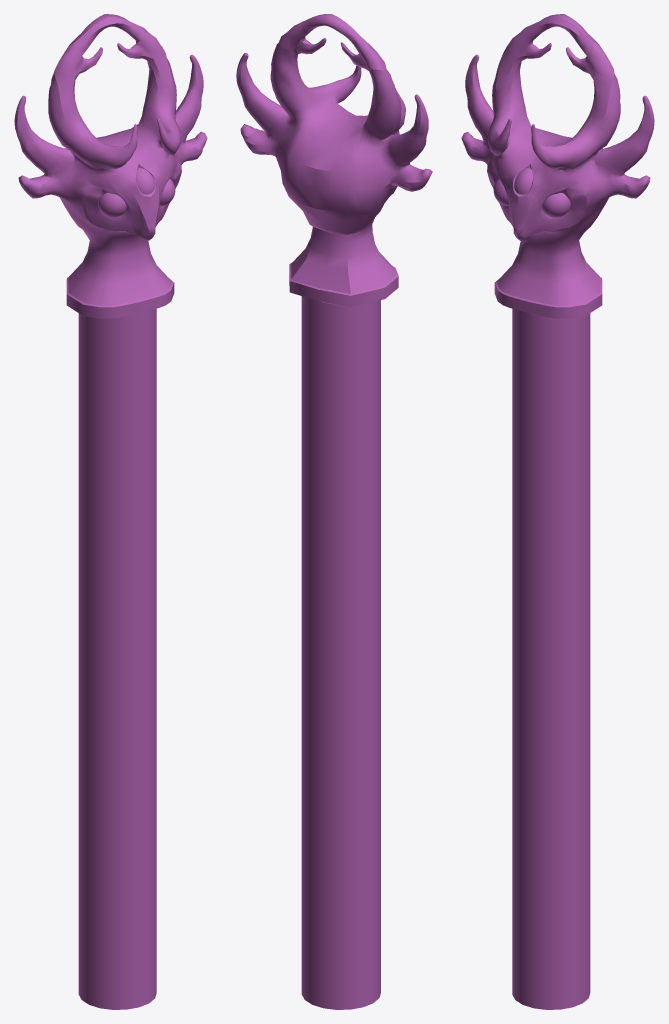
Rendered from Statue.fbx.
3 views of the same model, side by side, from view 1: azimuth 30°, elevation 25°; view 2: azimuth 150°, elevation 25°; view 3: azimuth 330°, elevation 25° (orthographic).
Parts seen in each view (by area): view 1: Statue; view 2: Statue; view 3: Statue.
Boxes of the visible parts, left/top/right/bottom form: Statue: left=14, top=14, right=207, bottom=1009; Statue: left=236, top=14, right=432, bottom=1009; Statue: left=461, top=14, right=654, bottom=1009.
Bounding box in the file's own units: 2.64 × 13.11 × 1.51.
